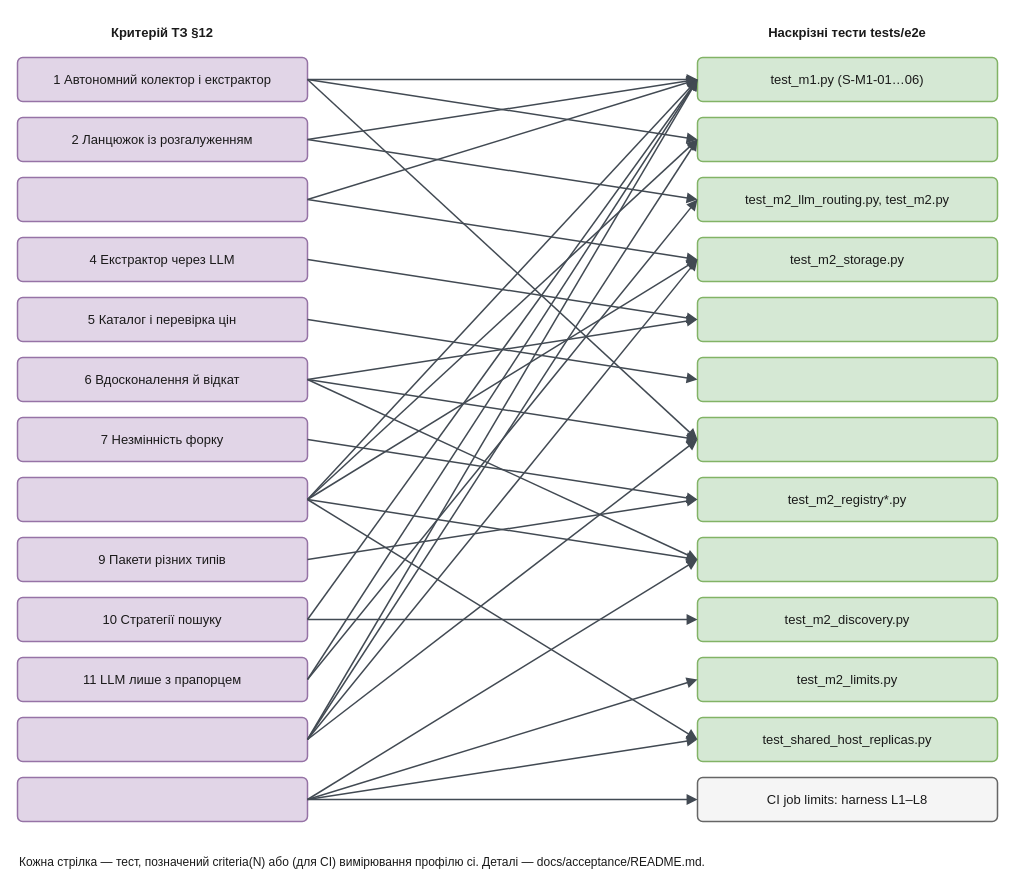
Some shapes in this 1016 by 894 pixel diagram are drawn without their labels. The centre of each missing label's shape, as x and y in pixels:
"12 Усі адаптери збереження" goes at point 162,739.
"13 Ліміти й профілі" goes at point 162,799.
"3 Зміна сховища без коду" goes at point 162,199.
"8 Відновлення й повторна доставка" goes at point 162,499.
"test_m2_assistant.py" goes at point 847,319.
"test_m2_prices.py" goes at point 847,379.
"test_m2_telegram.py" goes at point 847,139.
"test_reliability*.py, test_r0*.py" goes at point 847,559.
"test_reprocessing_stored.py" goes at point 847,439.
